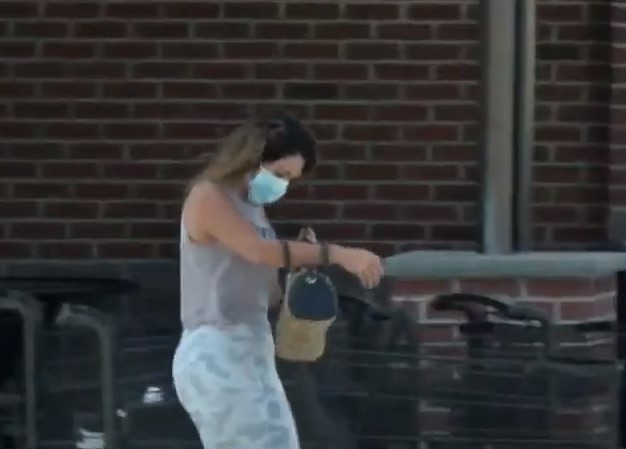face_with_mask: (223, 111, 314, 209)
